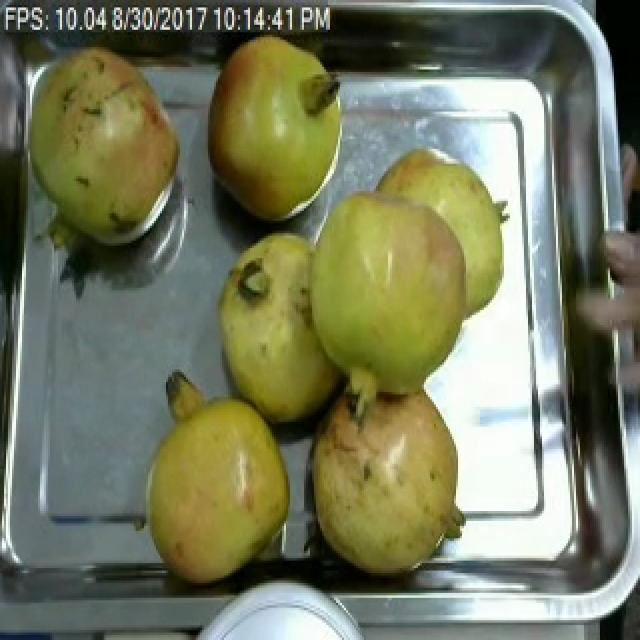fruit: (120, 364, 310, 598), (296, 367, 480, 588), (14, 29, 190, 250), (202, 22, 352, 231)
